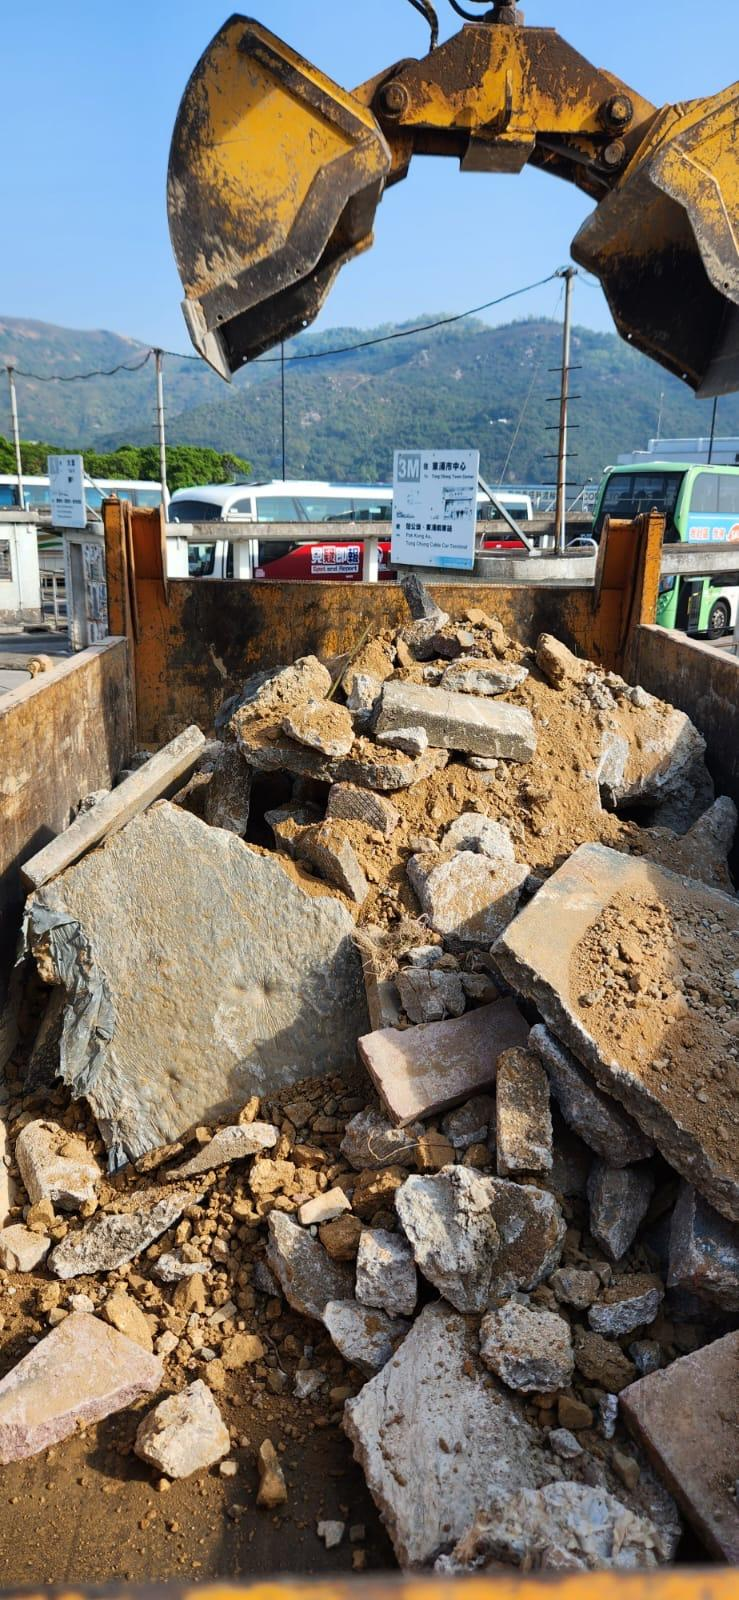dry: (10, 640, 739, 1517)
